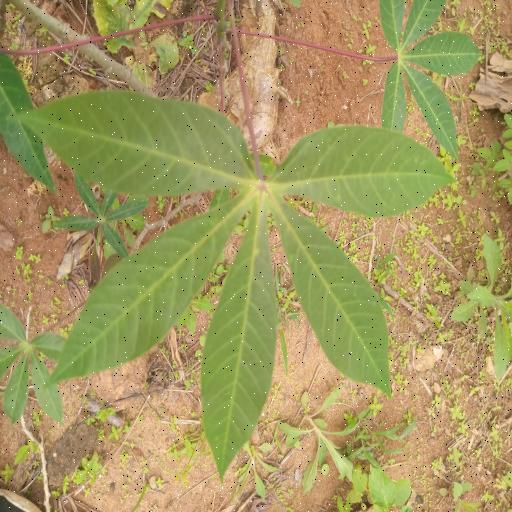Cassava_Healthy: (14, 86, 446, 482), (374, 0, 484, 158)
